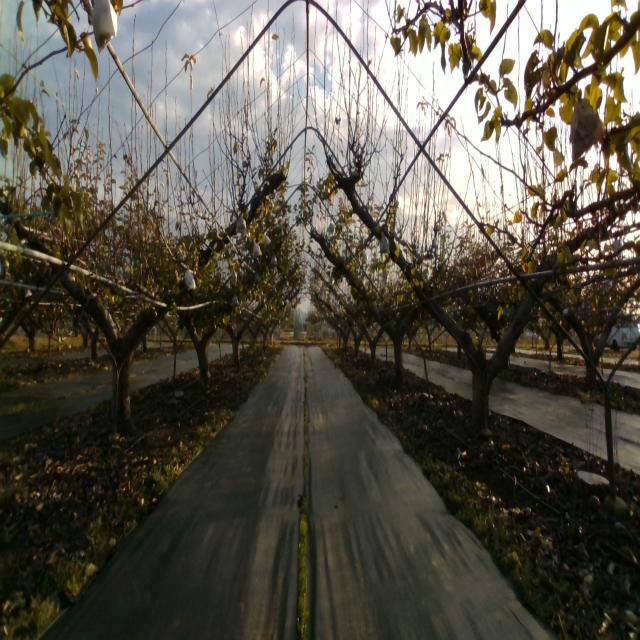pearbags: (570, 88, 607, 164), (91, 0, 117, 55), (184, 264, 196, 291), (378, 231, 390, 255), (235, 214, 247, 236)
